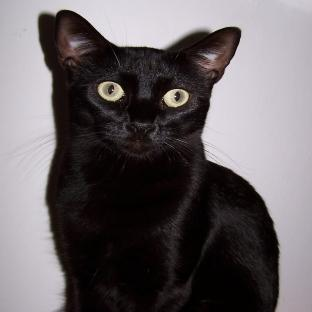Animal: (51, 10, 278, 312)
